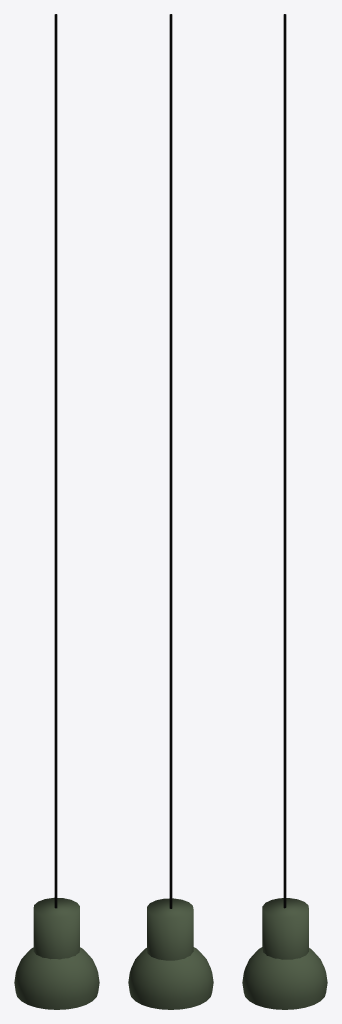
Rendered from threejsLampBasic.glb.
3 renders of one model, left to right at view 1: azimuth 30°, elevation 25°; view 2: azimuth 150°, elevation 25°; view 3: azimuth 330°, elevation 25°, orthographic.
Visible parts, largest first — view 1: Sphere, Cylinder, lampTop.001; view 2: Sphere, Cylinder, lampTop.001; view 3: Sphere, Cylinder, lampTop.001.
Boxes of the visible parts, left/top/right/bottom form: Sphere: left=14, top=947, right=99, bottom=1009; Cylinder: left=54, top=14, right=57, bottom=908; lampTop.001: left=33, top=897, right=79, bottom=959; Sphere: left=128, top=947, right=213, bottom=1009; Cylinder: left=169, top=14, right=172, bottom=908; lampTop.001: left=147, top=898, right=193, bottom=960; Sphere: left=242, top=947, right=327, bottom=1009; Cylinder: left=283, top=14, right=286, bottom=908; lampTop.001: left=262, top=898, right=308, bottom=959.
Size of the model in its own units: 2.59 by 32.75 by 2.59.
